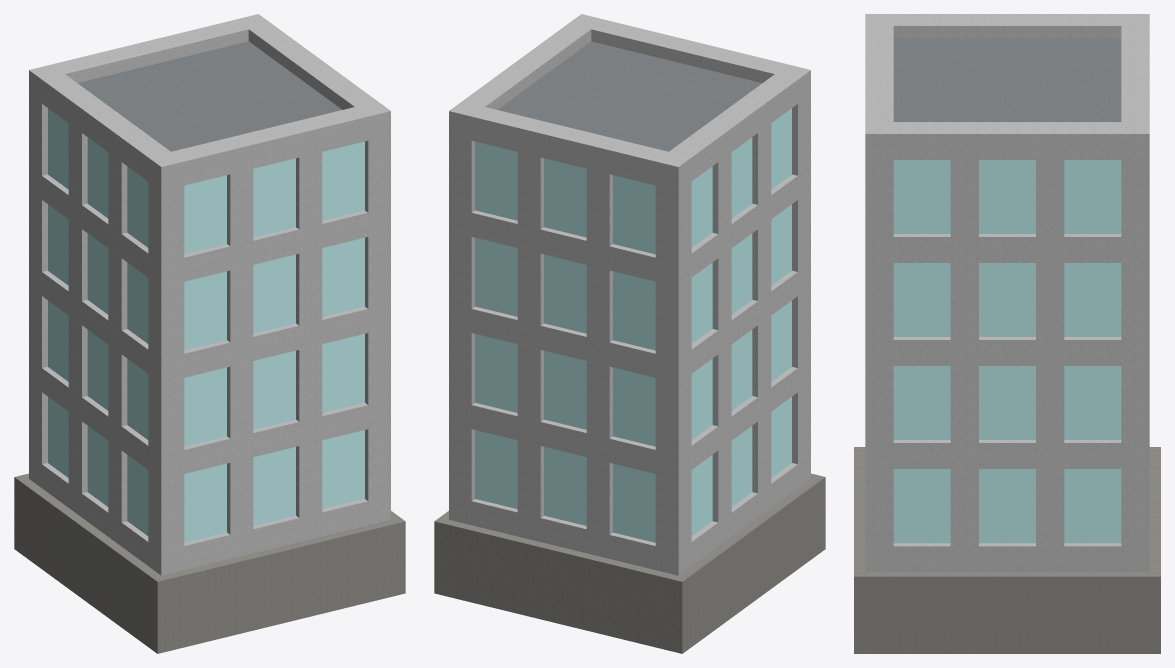
Rendered from building1.fbx.
3 renders of one model, left to right at view 1: azimuth 30°, elevation 25°; view 2: azimuth 150°, elevation 25°; view 3: azimuth 270°, elevation 25°, orthographic. The views are drawn at different scales.
Visible parts, largest first — view 1: Model; view 2: Model; view 3: Model.
Boxes of the visible parts, box(x1,y1,x2,y2) form: Model: box(14, 14, 405, 653); Model: box(434, 14, 825, 653); Model: box(854, 14, 1160, 653).
Bounding box in the file's own units: 10.8 × 20 × 10.8.
